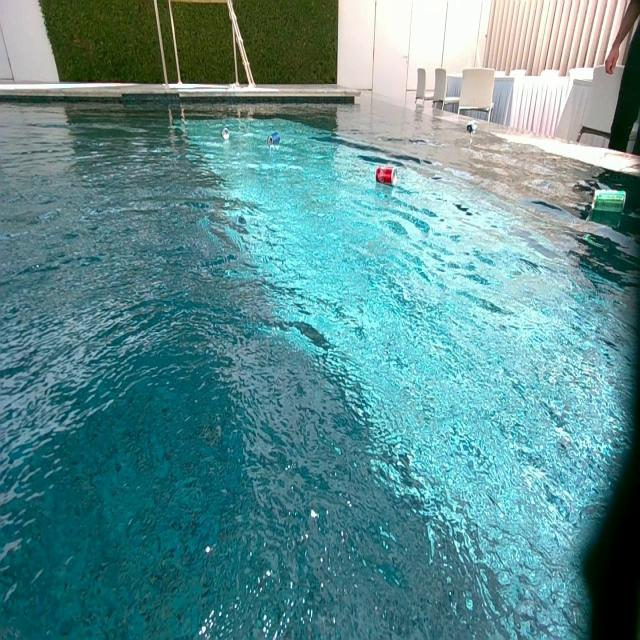Cans: (591, 190, 628, 214), (377, 166, 399, 186), (269, 133, 281, 146), (221, 128, 229, 141), (466, 121, 476, 131)
